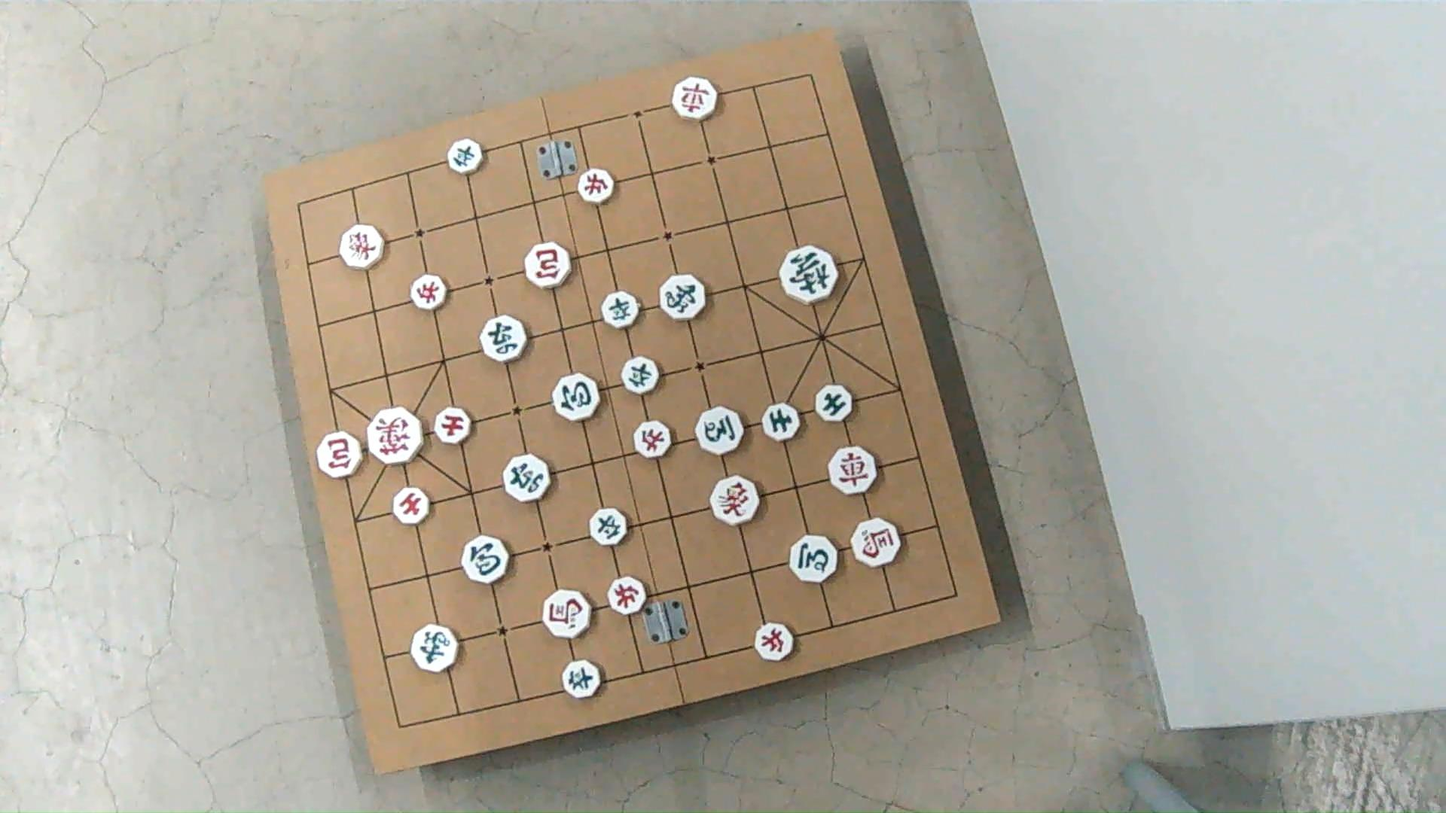cha_green: (503, 454, 551, 501), (479, 318, 525, 364)
cha_red: (831, 447, 880, 495), (673, 78, 719, 120)
jol_green: (591, 510, 630, 547), (563, 662, 602, 699), (602, 291, 640, 328), (623, 355, 660, 393), (450, 139, 484, 175)
jol_red: (757, 623, 795, 662), (607, 577, 645, 614), (634, 421, 670, 458), (412, 276, 448, 312), (578, 169, 615, 203)
ma_green: (789, 534, 837, 582), (697, 407, 743, 455)
ma_red: (543, 589, 591, 638), (853, 519, 900, 567)
po_green: (462, 536, 511, 583), (554, 373, 600, 420)
po_red: (526, 244, 572, 290), (316, 431, 361, 477)
sa_green: (762, 402, 799, 442), (815, 385, 852, 422)
sa_red: (435, 407, 473, 444), (392, 488, 430, 525)
sang_green: (410, 626, 457, 673), (660, 276, 706, 321)
sang_red: (710, 477, 758, 526), (339, 224, 383, 268)
wang_green: (780, 245, 837, 303)
wang_red: (368, 408, 424, 464)
